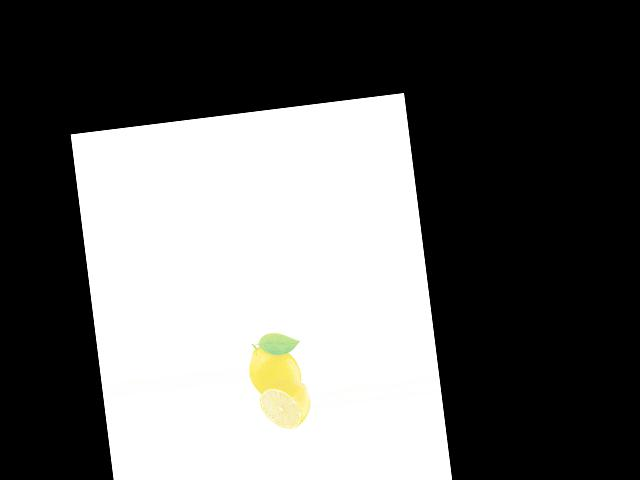lemon: (245, 336, 304, 396)
